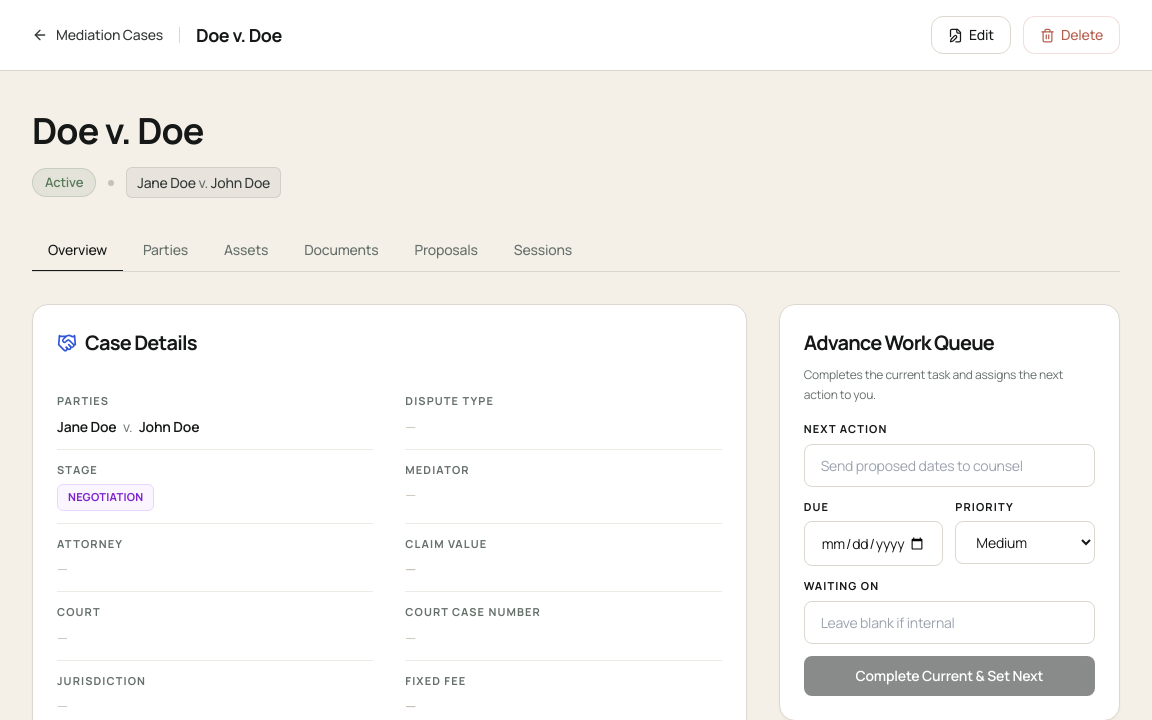
Test: MediationDetailPage review and release controls › loads parties with the case and excludes the uploader from document release candidates
This screenshot has width=1152, height=720.
Expected: the text "Doe v. Doe" is shown, [196,21,282,49]
Click the tab "Parties" at (166, 251), box [127,230,204,272]
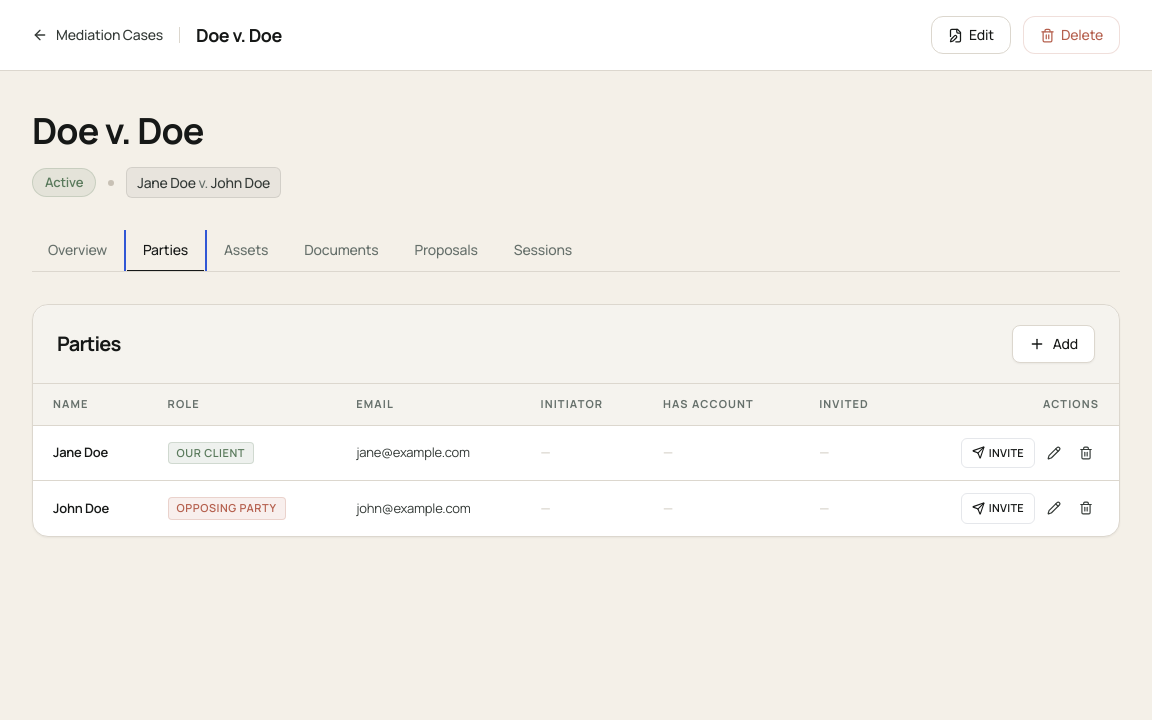
Expected: the text "Jane Doe" is shown, [53,443,108,461]
Click the tab "Documents" at (341, 251), box [288,230,394,272]
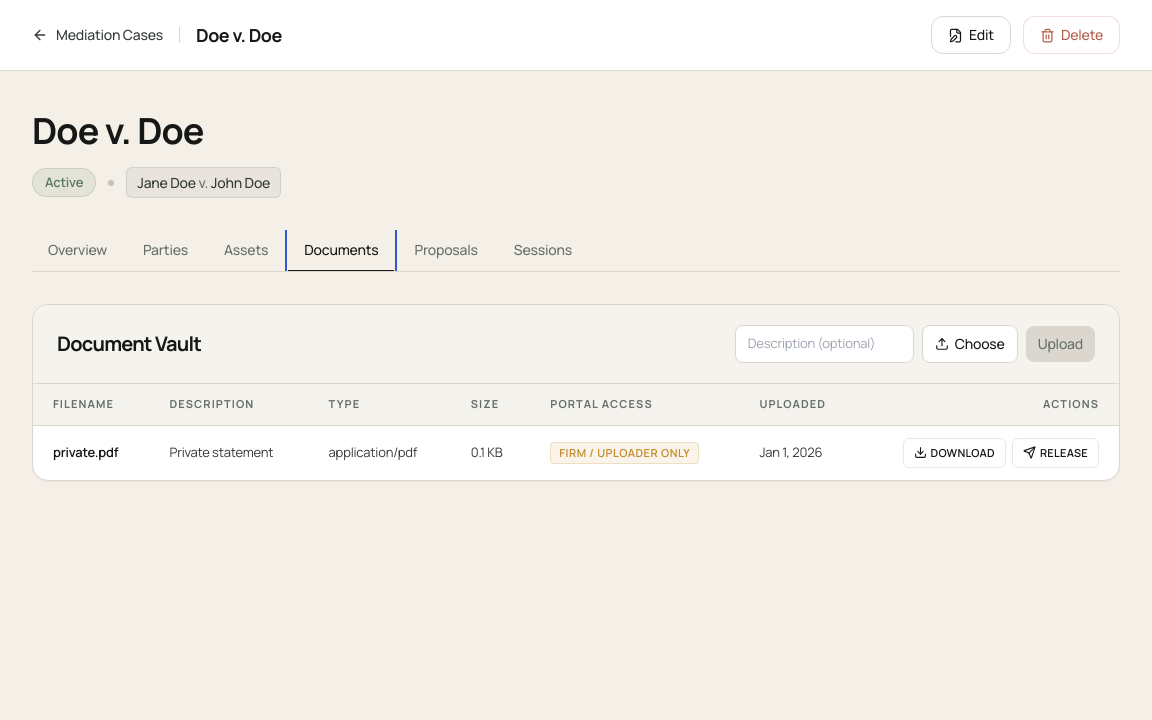
Expected: the text "private.pdf" is shown, [53,443,130,462]
Expected: the text "Firm / uploader only" is shown, [550,442,699,464]
Click the button "Release" at (1055, 453), box [1012,438,1099,468]
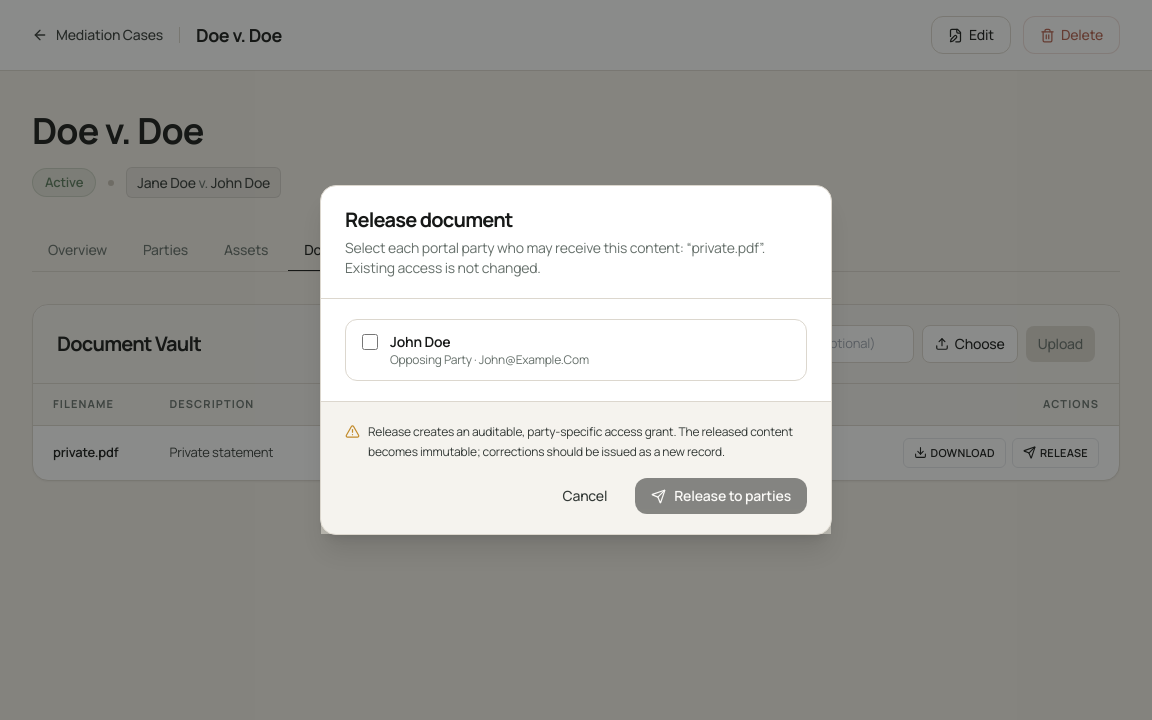
Expected: the text "John Doe" is shown, [390,332,450,351]
